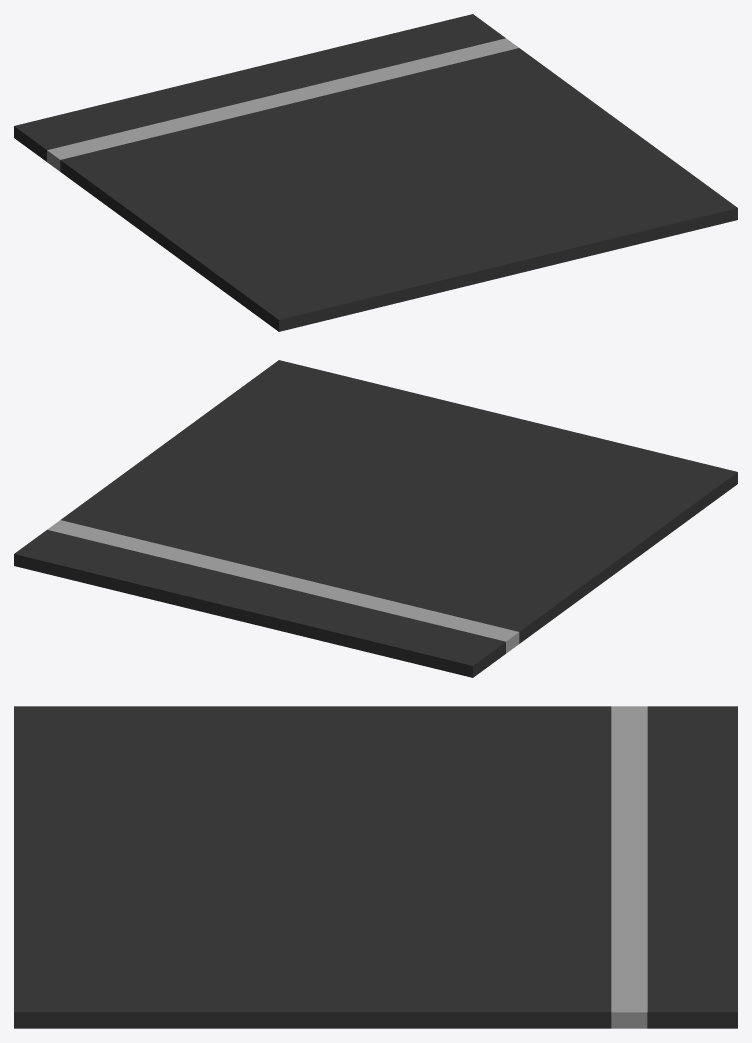
Rendered from building-large-0.obj.
The picture shows the model from 3 angles, top to bottom: view 1: azimuth 30°, elevation 25°; view 2: azimuth 150°, elevation 25°; view 3: azimuth 270°, elevation 25°; orthographic projection. The views are drawn at different scales.
Bounding box in the file's own units: 16 × 0.4 × 16.
Materials: 1 (1 with a texture image).
